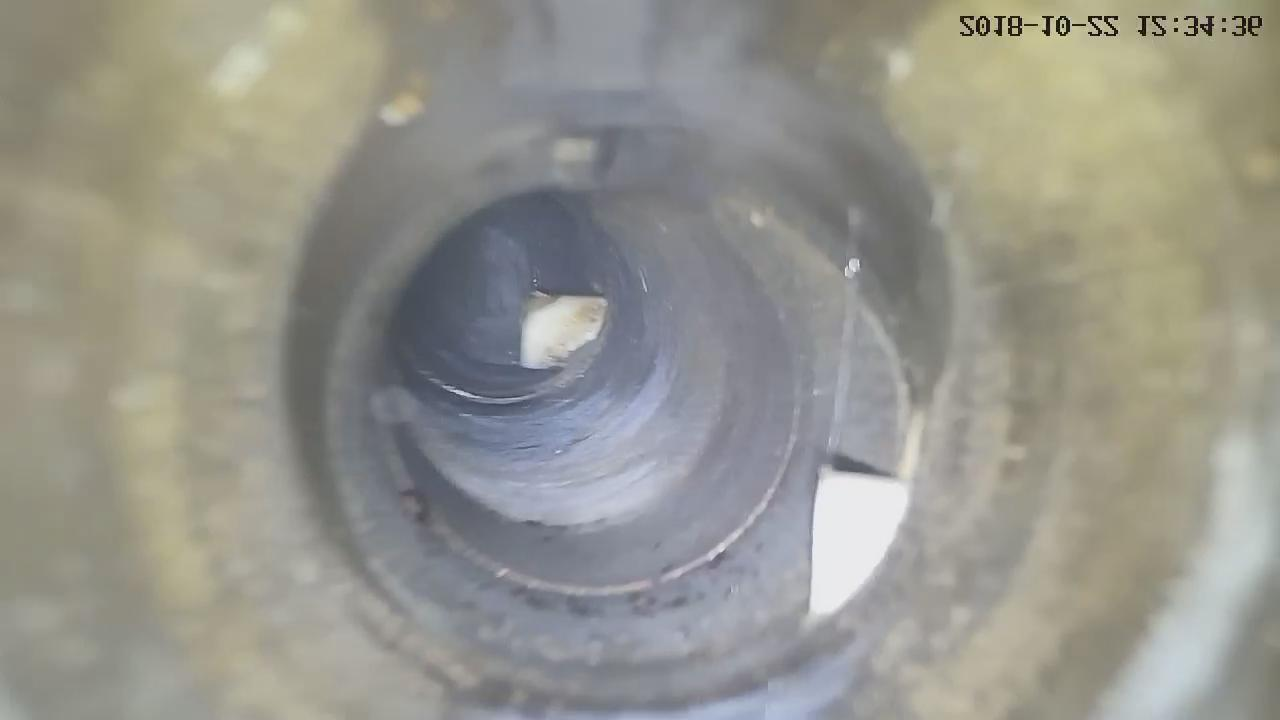CKTJ: (390, 350, 797, 596)
ZGAJ: (809, 458, 910, 620), (520, 291, 608, 369)
